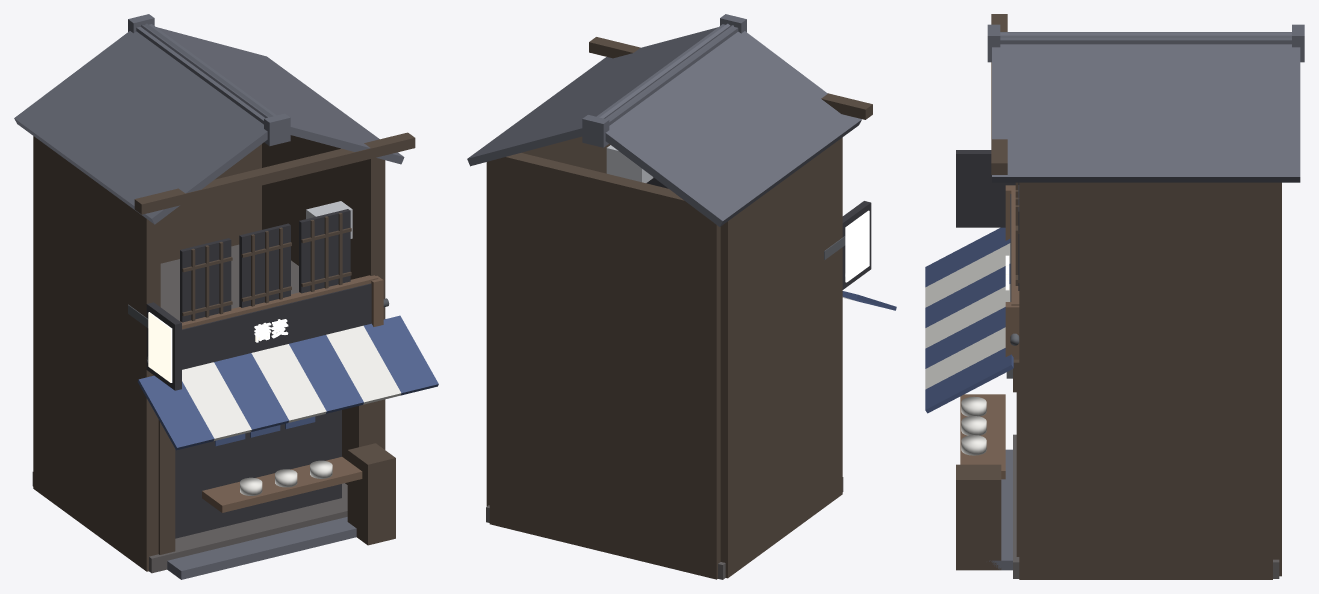
The model's file is prop_shop_sobaya.glb.
3 views of the same model, side by side, from view 1: azimuth 30°, elevation 25°; view 2: azimuth 150°, elevation 25°; view 3: azimuth 270°, elevation 25° (orthographic). The views are drawn at different scales.
Visible parts, largest first — view 1: shop_sobaya; view 2: shop_sobaya; view 3: shop_sobaya.
Boxes of the visible parts, x1,y1,x2,y2 form: shop_sobaya: [14, 14, 438, 579]; shop_sobaya: [467, 14, 896, 579]; shop_sobaya: [925, 14, 1304, 579].
Size of the model in its own units: 3.9 by 5.9 by 4.19.
